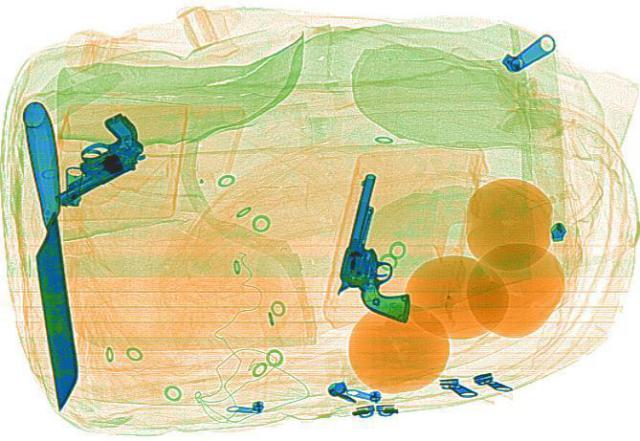Gun: (330, 170, 442, 319), (12, 109, 176, 207)
Knife: (17, 99, 81, 408)
